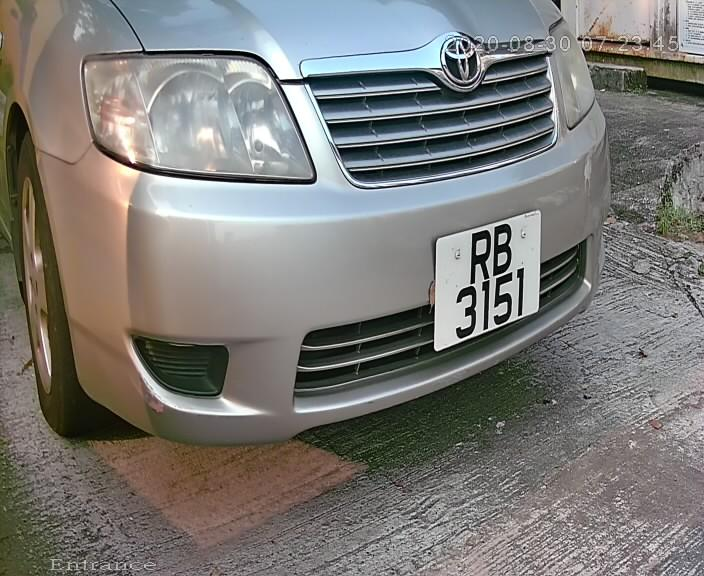License Plate: (425, 206, 544, 358)
